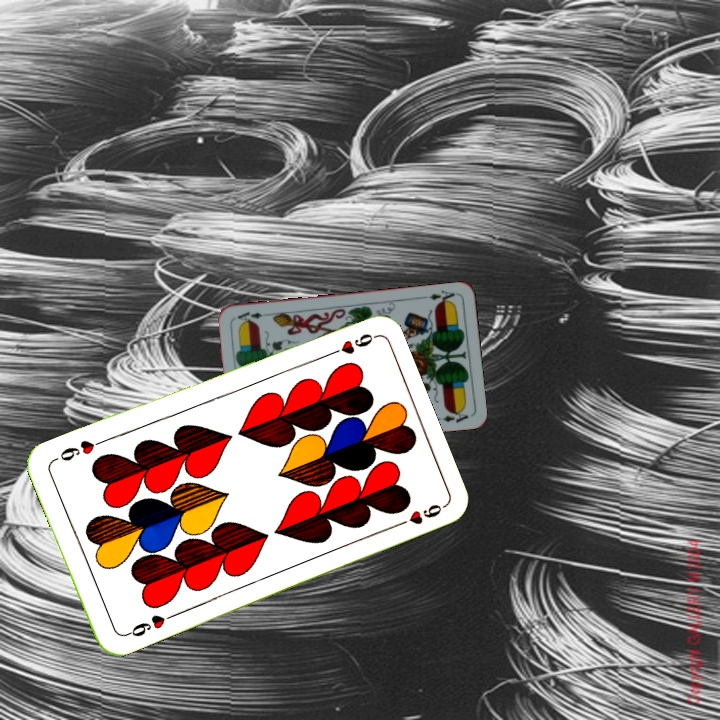EA: (425, 286, 459, 307)
H9: (320, 329, 377, 360), (120, 610, 177, 640)
